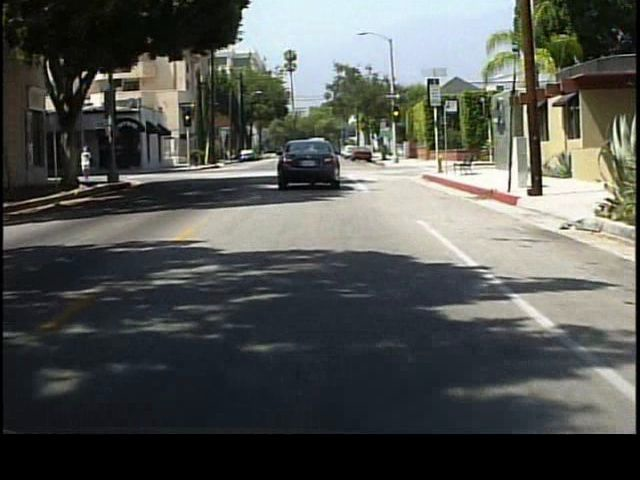person: (79, 143, 94, 185)
